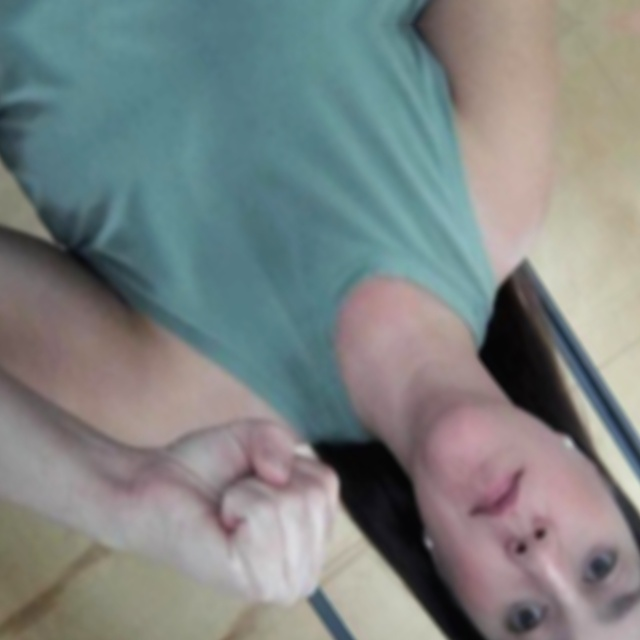Rock: (0, 208, 425, 640)
